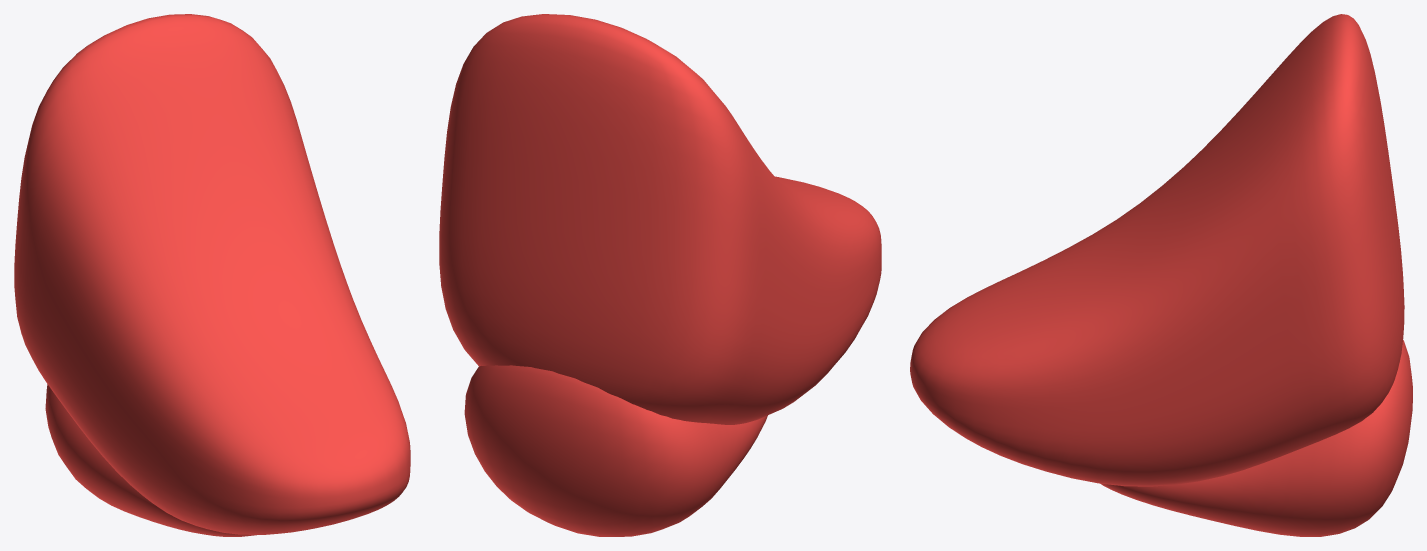
Rendered from NoLod_4.glb.
3 renders of one model, left to right at view 1: azimuth 30°, elevation 25°; view 2: azimuth 150°, elevation 25°; view 3: azimuth 270°, elevation 25°, orthographic. The views are drawn at different scales.
Visible parts, largest first — view 1: rtc; view 2: rtc; view 3: rtc.
Part boxes in pixels (bbox=[...]): rtc: bbox=[14, 14, 410, 536]; rtc: bbox=[439, 14, 881, 536]; rtc: bbox=[910, 14, 1412, 536].
Size of the model in its own units: 0.547 by 0.9089 by 0.8517.
